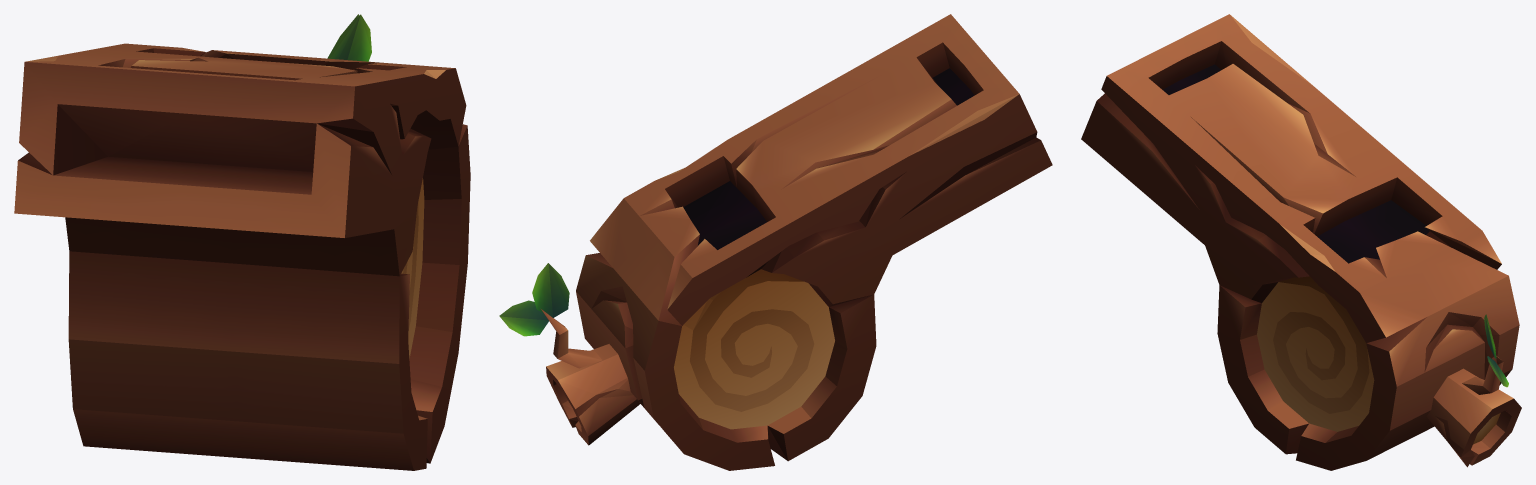
Rendered from petwhistle.fbx.
3 views of the same model, side by side, from view 1: azimuth 30°, elevation 25°; view 2: azimuth 150°, elevation 25°; view 3: azimuth 270°, elevation 25° (orthographic). The views are drawn at different scales.
Parts seen in each view (by area): view 1: petwhistle; view 2: petwhistle; view 3: petwhistle.
Boxes of the visible parts, x1,y1,x2,y2 form: petwhistle: (14,14,470,470); petwhistle: (499,14,1052,470); petwhistle: (1081,14,1521,470).
Size of the model in its own units: 1.11 by 0.9043 by 1.13.
Materials: 1 (1 with a texture image).
